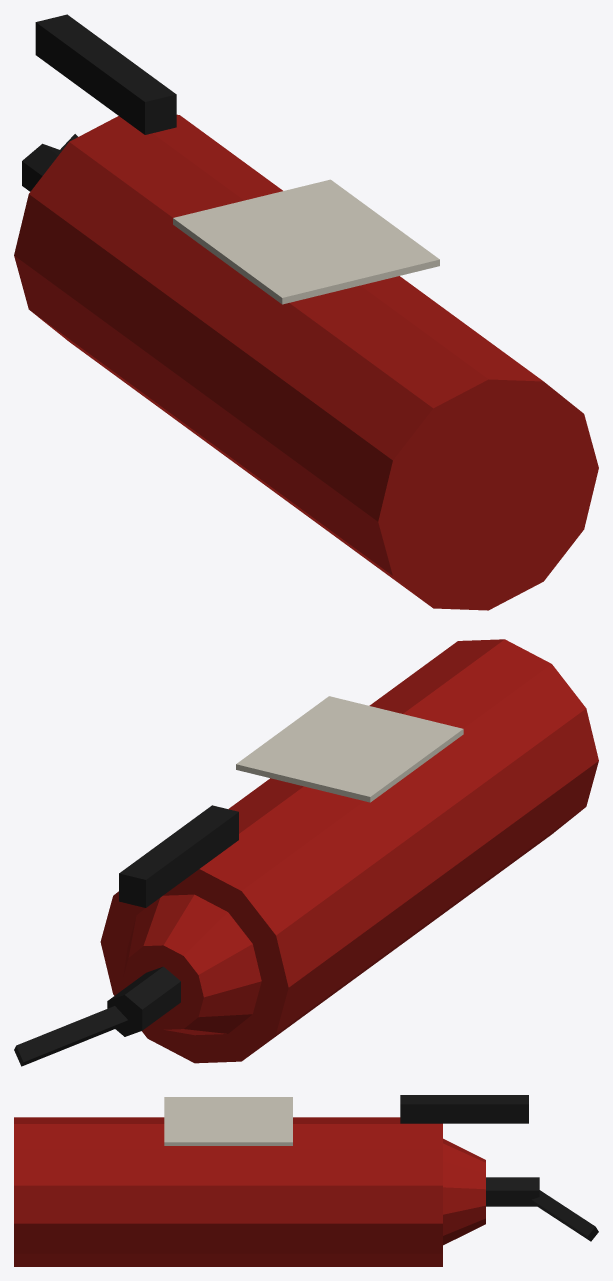
The model's file is extinguisher_w0.glb.
3 views of the same model, one above another, from view 1: azimuth 30°, elevation 25°; view 2: azimuth 150°, elevation 25°; view 3: azimuth 270°, elevation 25° (orthographic). The views are drawn at different scales.
Parts seen in each view (by area): view 1: extinguisher_w0; view 2: extinguisher_w0; view 3: extinguisher_w0.
Part boxes in pixels (left/top/right/bottom): extinguisher_w0: left=14, top=14, right=598, bottom=610; extinguisher_w0: left=14, top=639, right=598, bottom=1066; extinguisher_w0: left=14, top=1095, right=598, bottom=1266.
Bounding box in the file's own units: 0.14 × 0.165 × 0.5453.
